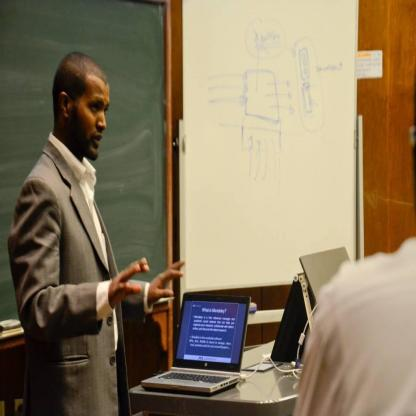board: (144, 294, 252, 408)
